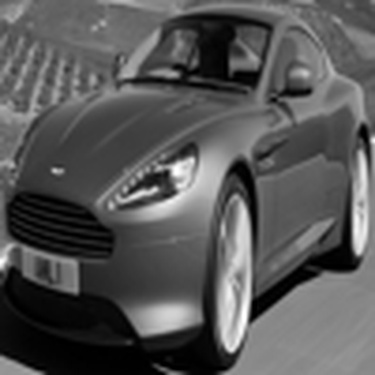car: (6, 3, 371, 372)
